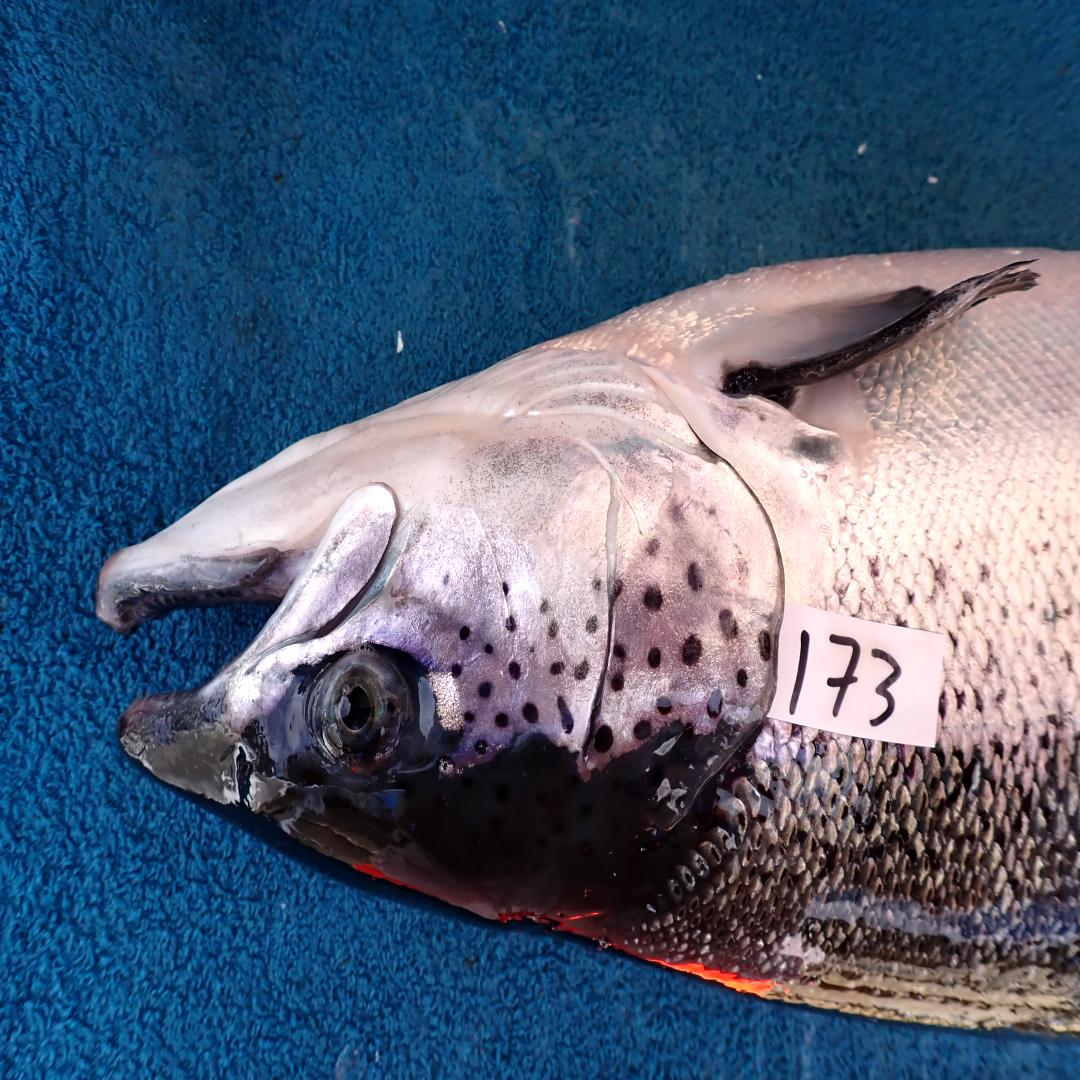roi: (399, 341, 787, 774)
